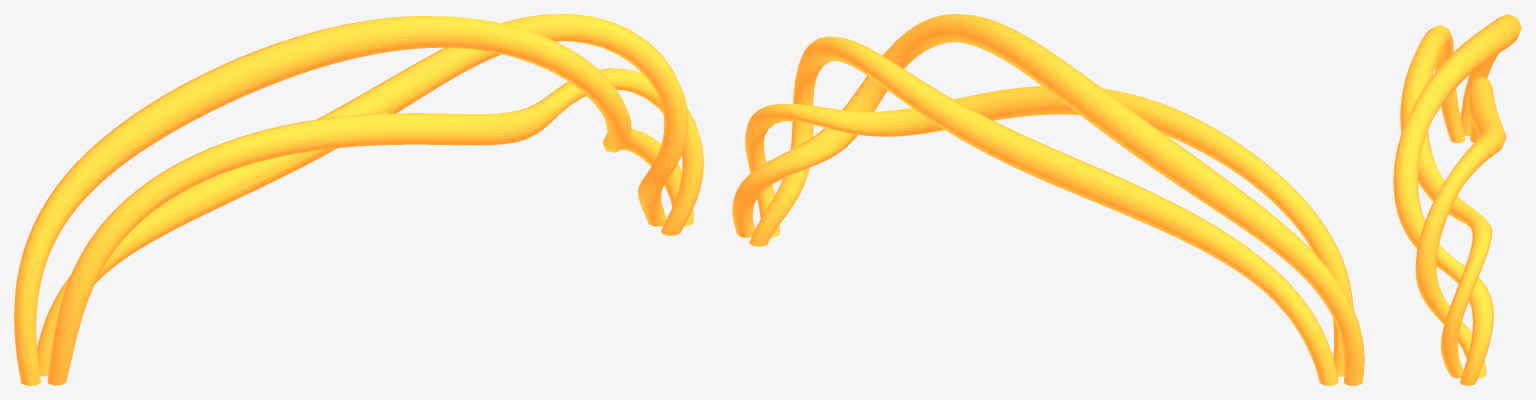
The model's file is knowing-prominence.glb.
3 views of the same model, side by side, from view 1: azimuth 30°, elevation 25°; view 2: azimuth 150°, elevation 25°; view 3: azimuth 270°, elevation 25° (orthographic). The views are drawn at different scales.
Parts seen in each view (by area): view 1: Prominence; view 2: Prominence; view 3: Prominence.
Boxes of the visible parts, x1,y1,x2,y2 form: Prominence: (14,14,703,385); Prominence: (732,14,1364,385); Prominence: (1393,14,1521,385).
Bounding box in the file's own units: 15.09 × 5.96 × 3.17.
